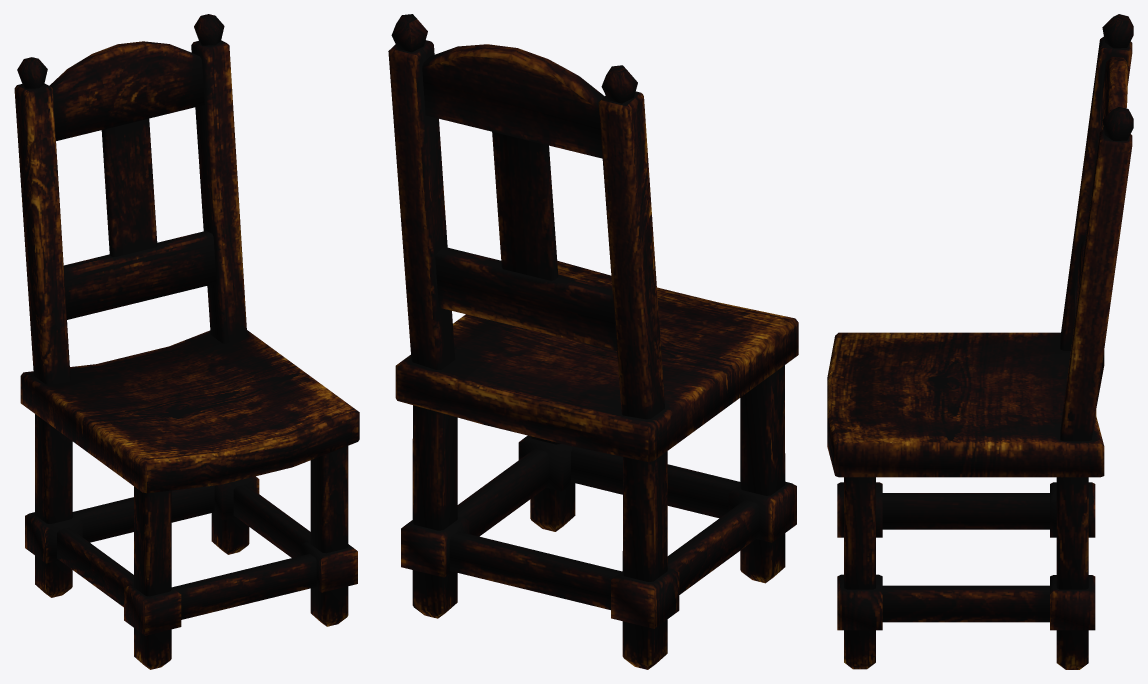
Rendered from chair_wood02_worn.dae.
3 views of the same model, side by side, from view 1: azimuth 30°, elevation 25°; view 2: azimuth 150°, elevation 25°; view 3: azimuth 270°, elevation 25° (orthographic). The views are drawn at different scales.
Parts seen in each view (by area): view 1: chair_wood02; view 2: chair_wood02; view 3: chair_wood02.
Boxes of the visible parts, x1=… form: chair_wood02: x1=14, y1=14, x2=359, y2=669; chair_wood02: x1=388, y1=14, x2=798, y2=669; chair_wood02: x1=827, y1=14, x2=1133, y2=669.
Bounding box in the file's own units: 0.6263 × 1.43 × 0.7132.
1 material, 1 textured.
